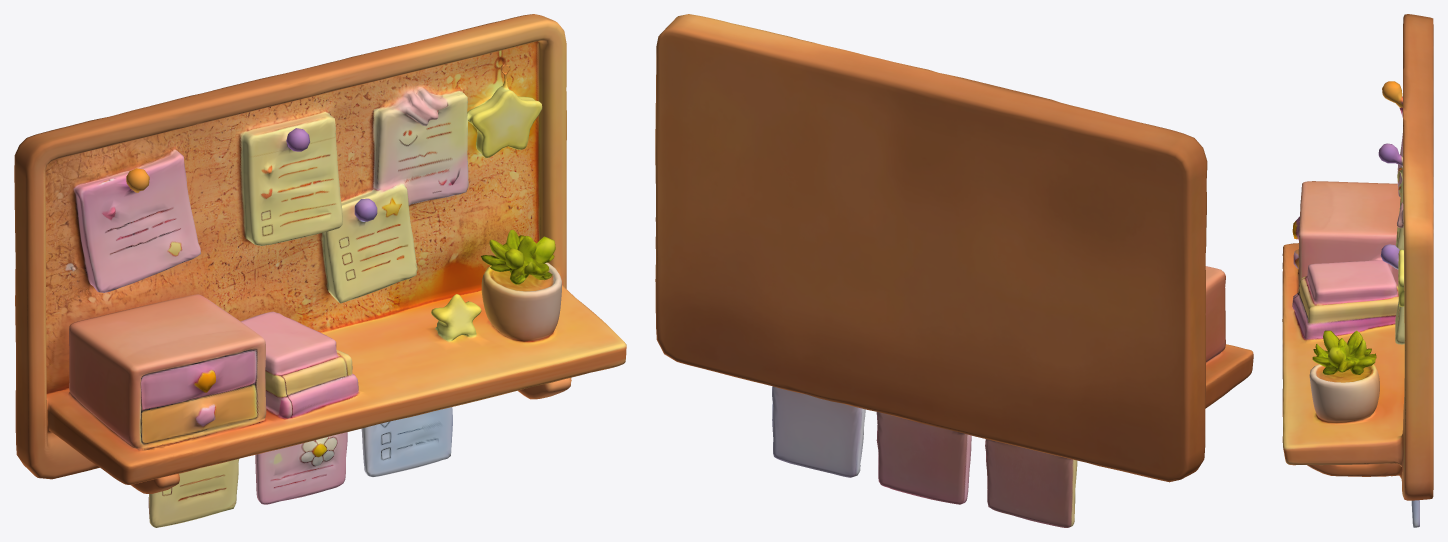
Rendered from board.glb.
3 views of the same model, side by side, from view 1: azimuth 30°, elevation 25°; view 2: azimuth 150°, elevation 25°; view 3: azimuth 270°, elevation 25° (orthographic). The views are drawn at different scales.
Visible parts, largest first — view 1: model; view 2: model; view 3: model.
Part boxes in pixels (x1,y1,x2,y2): model: [14, 14, 626, 527]; model: [655, 14, 1253, 527]; model: [1282, 14, 1433, 527].
Bounding box in the file's own units: 1.9 × 1.42 × 0.5527.
1 material, 1 textured.
